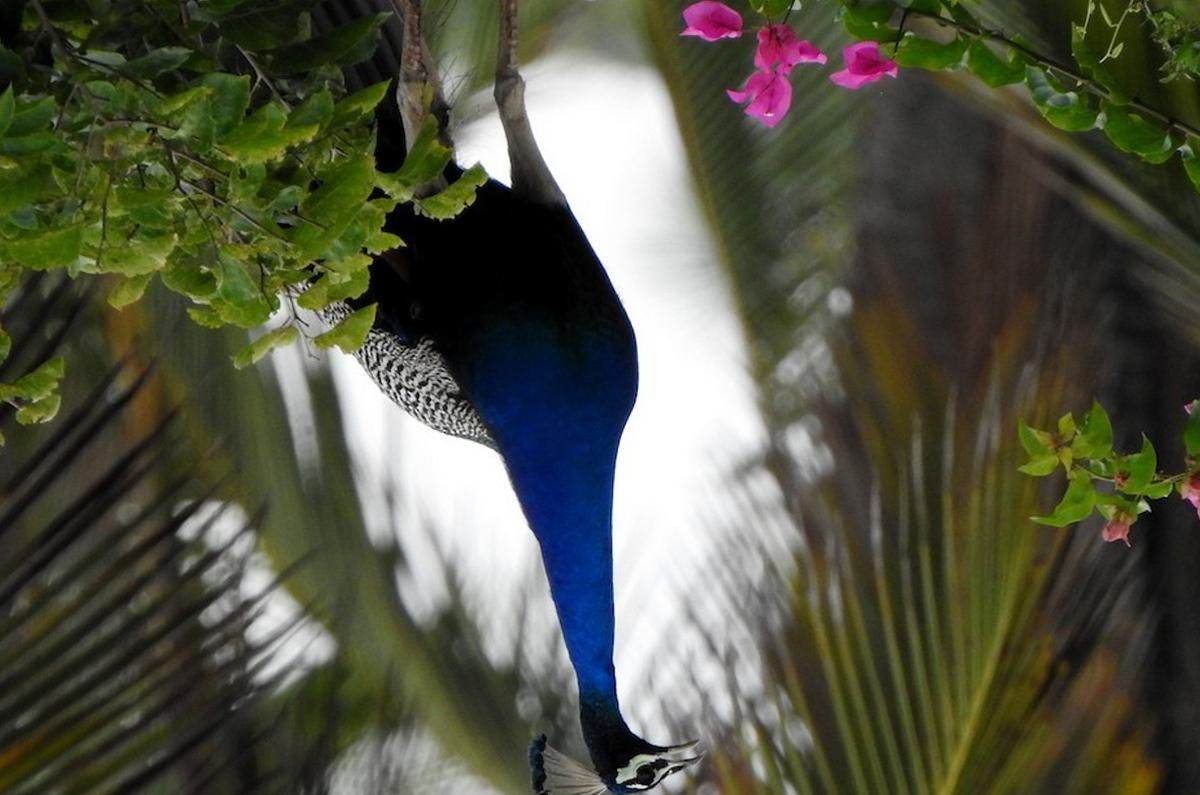peacock: (113, 91, 714, 791)
